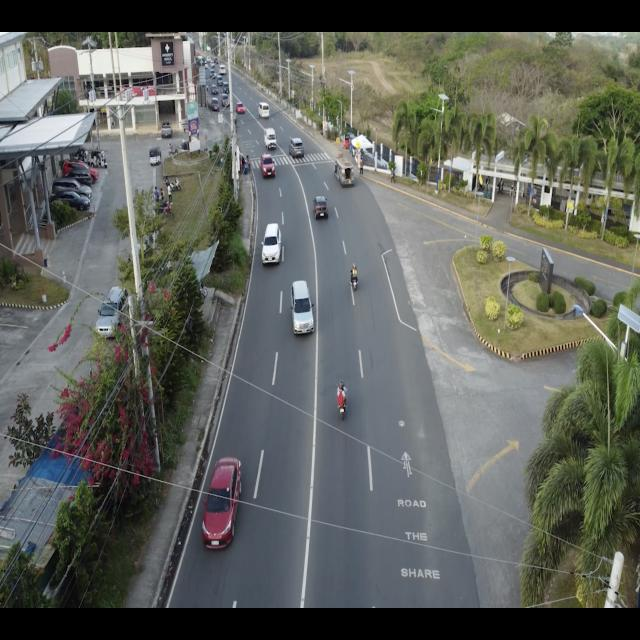car: (200, 456, 244, 552), (94, 283, 129, 340), (287, 279, 316, 338), (259, 222, 282, 266), (60, 160, 100, 185), (51, 178, 92, 200), (50, 190, 92, 211), (333, 156, 355, 187), (59, 168, 92, 188), (312, 194, 329, 221), (260, 153, 276, 179), (287, 137, 305, 160), (263, 127, 277, 152), (161, 120, 173, 138), (258, 102, 270, 120), (211, 96, 220, 113), (220, 94, 230, 108), (235, 102, 245, 115), (223, 81, 230, 95), (210, 84, 218, 94)
motorcycle: (335, 377, 350, 420), (348, 262, 360, 292), (168, 177, 182, 192)
person: (166, 183, 173, 205), (390, 166, 396, 184), (359, 156, 363, 177)
